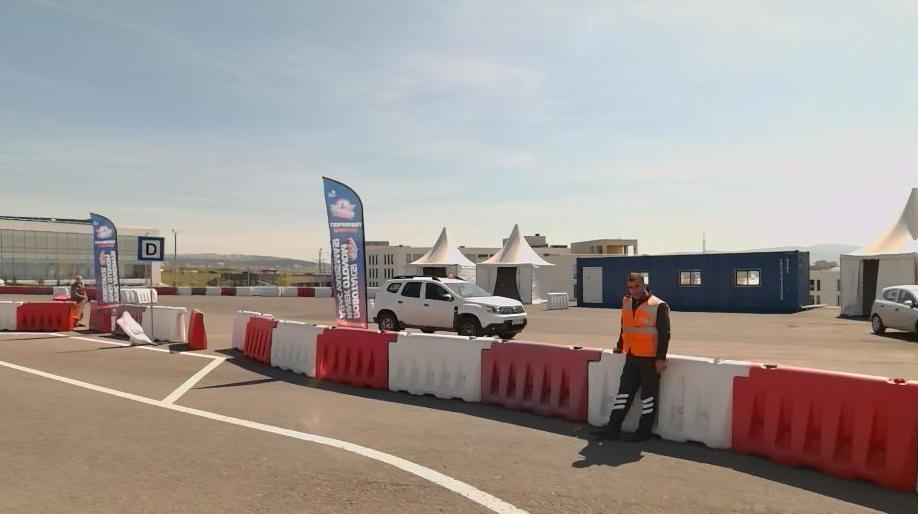nesne: (0, 360, 527, 512), (729, 361, 916, 492), (0, 333, 226, 404), (3, 332, 228, 402), (591, 273, 671, 438), (372, 275, 527, 338), (478, 341, 600, 421), (650, 354, 752, 447), (388, 333, 493, 401), (316, 326, 398, 390), (270, 317, 321, 376), (586, 349, 620, 425), (870, 282, 917, 334), (14, 300, 77, 330), (142, 305, 186, 342), (243, 314, 276, 362), (117, 312, 153, 343), (186, 308, 208, 347), (230, 311, 251, 350), (69, 275, 85, 326), (89, 301, 113, 332), (136, 235, 164, 261), (0, 284, 54, 294), (120, 286, 150, 303), (546, 289, 569, 310), (253, 285, 282, 297), (315, 286, 332, 297), (298, 287, 316, 297), (236, 286, 253, 296), (283, 286, 297, 297), (205, 285, 222, 294), (178, 285, 192, 295), (192, 286, 205, 296), (222, 287, 234, 295)
